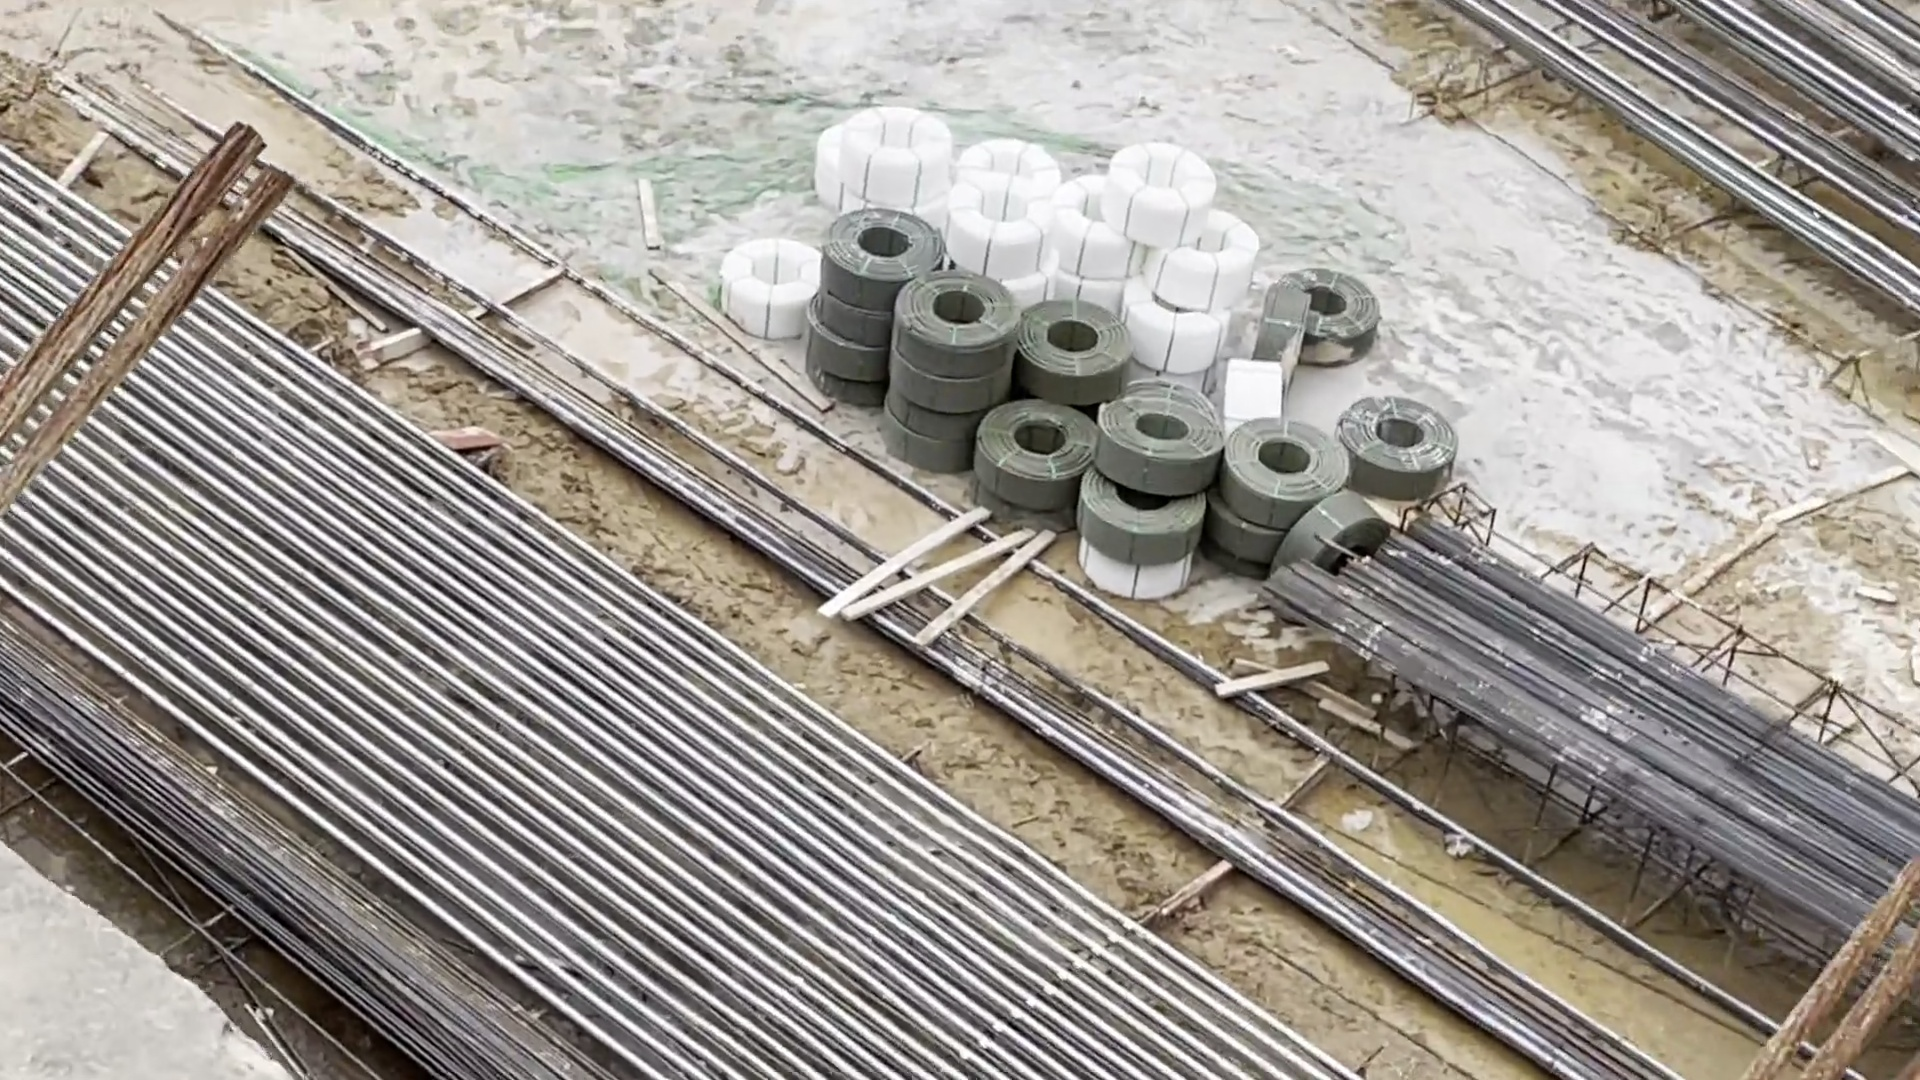rebar: (9, 538, 541, 1058), (1331, 504, 1919, 901)
